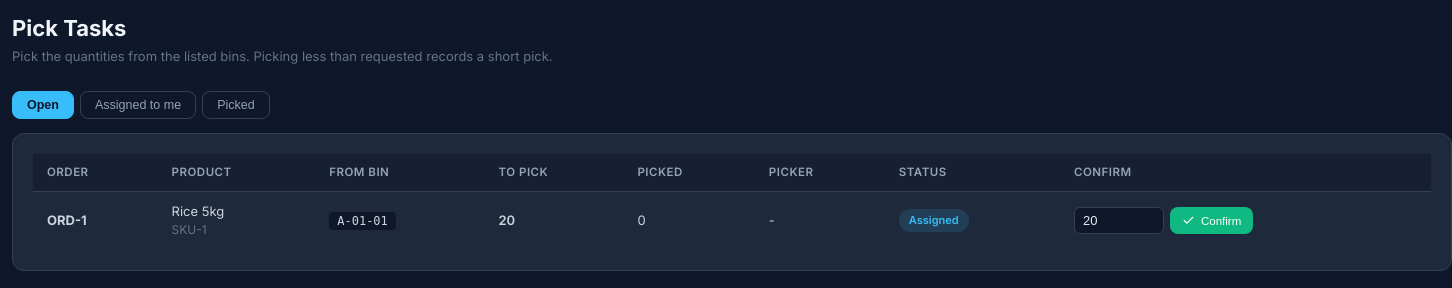
Test: Pick tasks page › shows the over-pick rejection
Step 1. Replace the text in the number field named "Quantity picked" with "25" → (1119, 220), box x1=1074 y1=207 x2=1164 y2=234
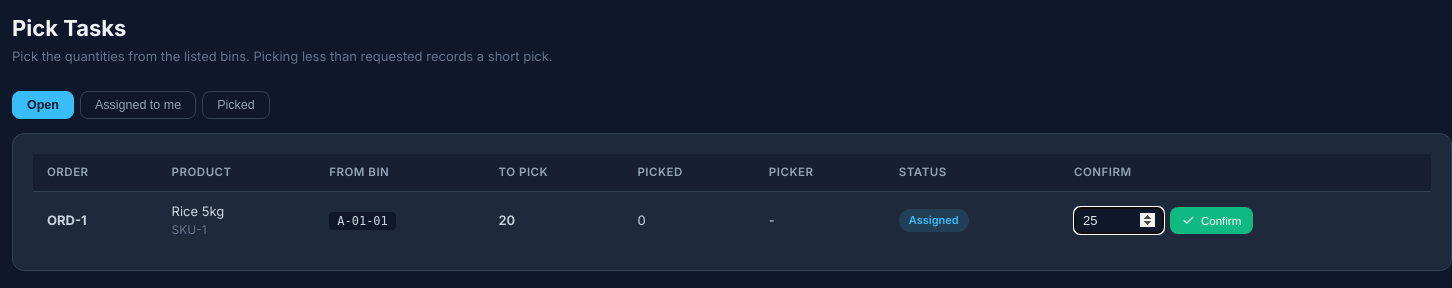
Step 2. Click the button "Confirm" → (1212, 220), box x1=1170 y1=207 x2=1253 y2=234
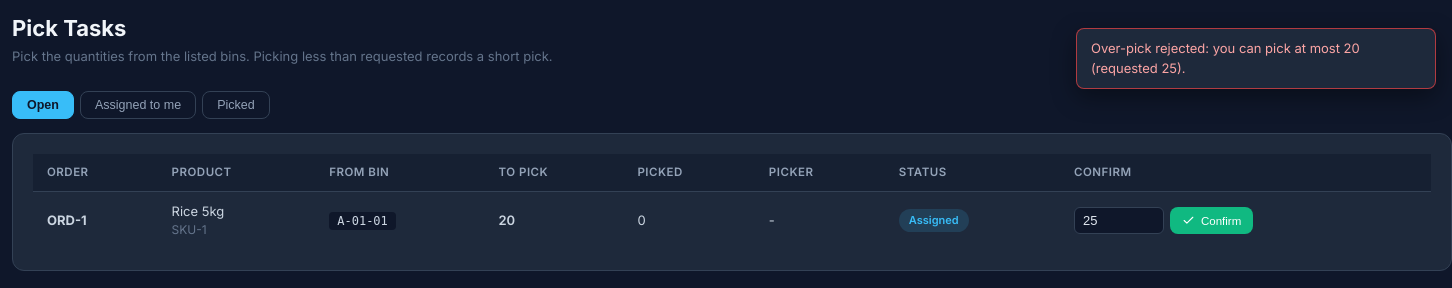
Expected: the text "Over-pick rejected: you can pick at most 20 (requested 25)." is shown, x1=1076 y1=28 x2=1436 y2=89
